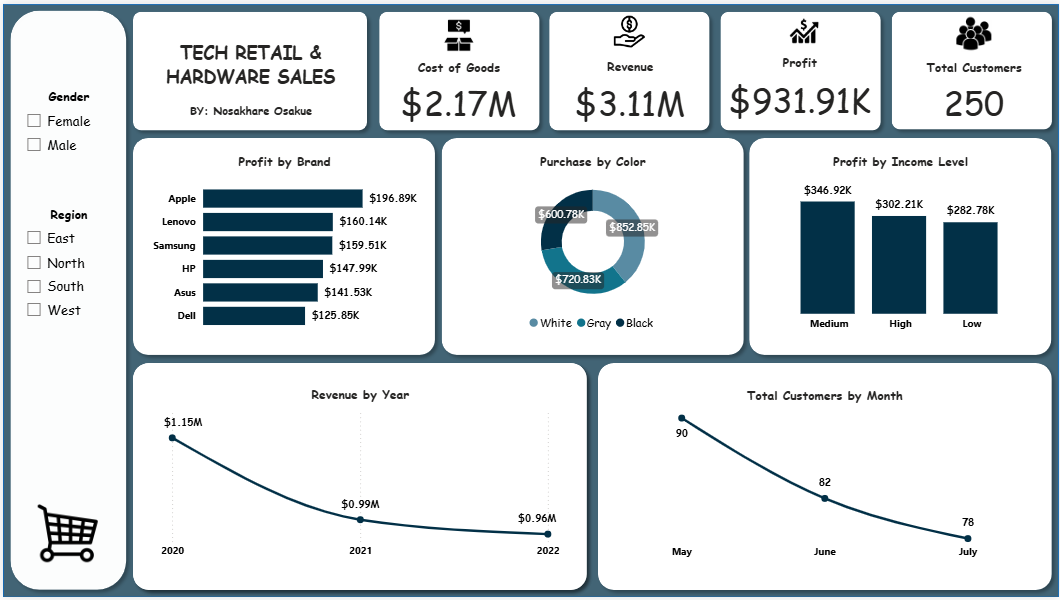

What the dashboard file says about the page in this screenshot:
{"tool":"powerbi","page":{"name":"Page 1","canvas":[1280,720],"ordinal":0},"visuals":[{"type":"shape","title":"Background","box":[0,1.2,1279.8,719],"z":0},{"type":"shape","box":[0,0,158.3,720.2],"z":1000},{"type":"slicer","title":"Region","fields":{"Values":["Table 2 (Customers).Region"]},"box":[17.2,245.4,126.4,162],"z":2000},{"type":"slicer","title":"Gender","fields":{"Values":["Table 2 (Customers).Gender"]},"box":[17.2,103.1,126.4,101.8],"z":3000},{"type":"shape","box":[148.5,1.2,301.8,162],"z":4000},{"type":"shape","box":[446.6,1.2,212.3,162],"z":5000},{"type":"shape","box":[653.7,1.2,212.3,162],"z":6000},{"type":"shape","box":[860.7,1.2,212.3,162],"z":7000},{"type":"shape","box":[1067.7,1.2,212.3,160.7],"z":8000},{"type":"card","title":"Cost of Goods","fields":{"Values":["Sum(Sales.COGS)"]},"box":[463.8,68.7,177.9,85.9],"z":9000},{"type":"card","title":"Revenue","fields":{"Values":["Sum(Sales.Revenue)"]},"box":[688.3,66.3,144.8,89.6],"z":10000},{"type":"card","title":"Profit","fields":{"Values":["Sum(Sales.Profit)"]},"box":[869.9,62.6,192.6,92],"z":11000},{"type":"card","title":"Total Customers","fields":{"Values":["Sales.Total Customers"]},"box":[1111.7,68.7,130.1,87.1],"z":12000},{"type":"shape","box":[148.5,427,568.1,293.3],"z":13000},{"type":"image","box":[1149.7,10,54,52.8],"z":14000},{"type":"shape","box":[148.5,154.6,384.1,281],"z":15000},{"type":"shape","box":[522.7,154.6,384.1,281],"z":16000},{"type":"shape","box":[895.7,154.6,384.1,281],"z":17000},{"type":"shape","box":[148.5,426.7,568.1,293.3],"z":18000},{"type":"shape","box":[711.7,427,568.1,293.3],"z":19000},{"type":"lineChart","title":"Revenue by Year","fields":{"Category":["Table 2 (Customers).SignupDate.Variation.Date Hierarchy.Year"],"Y":["Sum(Sales.Revenue)"]},"box":[186.5,463.8,493.3,218.4],"z":20000},{"type":"clusteredColumnChart","title":"Profit by Income Level","fields":{"Category":["Table 2 (Customers).IncomeLevel"],"Y":["Sum(Sales.Profit)"]},"box":[927.7,181.8,321.7,225.1],"z":21000},{"type":"clusteredBarChart","title":"Profit by Brand","fields":{"Category":["Table 1 (Products).Brand"],"Y":["Sum(Sales.Profit)"]},"box":[175.5,181.6,331.3,225.8],"z":22000},{"type":"lineChart","fields":{"Category":["Table 2 (Customers).SignupDate.Variation.Date Hierarchy.Month"],"Y":["Sales.Total Customers"]},"box":[748.5,465,495.7,218.4],"z":23000},{"type":"textbox","box":[162,39.3,276.1,77.3],"z":24000},{"type":"textbox","box":[196.3,116.6,207.4,30.7],"z":25000},{"type":"donutChart","title":"Purchase by Color","fields":{"Category":["Table 1 (Products).Color"],"Y":["Sum(Sales.COGS)"]},"box":[565.6,181.8,300.1,225.1],"z":26000},{"type":"image","box":[35.6,601.2,87.1,82.2],"z":27000},{"type":"image","box":[526.4,10,54,56.4],"z":28000},{"type":"image","box":[735,10,49.1,47.9],"z":29000},{"type":"image","box":[943.6,10,54,50.3],"z":30000}]}

Visuals, with their boxes in screenshot pixels (x1, y1, x2, y2), scaled from the page's 1280x720 canvas onto the 1060x600 screenshot:
"Background" shape: 0 1 1059 599
shape: 0 0 131 599
"Region" slicer: 14 204 119 340
"Gender" slicer: 14 86 119 171
shape: 123 1 373 136
shape: 370 1 546 136
shape: 541 1 717 136
shape: 713 1 889 136
shape: 884 1 1059 135
"Cost of Goods" card: 384 57 531 129
"Revenue" card: 570 55 690 130
"Profit" card: 720 52 880 129
"Total Customers" card: 921 57 1028 130
shape: 123 356 593 599
image: 952 8 997 52
shape: 123 129 441 363
shape: 433 129 751 363
shape: 742 129 1059 363
shape: 123 356 593 599
shape: 589 356 1059 599
"Revenue by Year" lineChart: 154 386 563 569
"Profit by Income Level" clusteredColumnChart: 768 152 1035 339
"Profit by Brand" clusteredBarChart: 145 151 420 340
lineChart - Table 2 (Customers).SignupDate.Variation.Date Hierarchy.Month x Sales.Total Customers: 620 388 1030 570
textbox: 134 33 363 97
textbox: 163 97 334 123
"Purchase by Color" donutChart: 468 152 717 339
image: 29 501 102 570
image: 436 8 481 55
image: 609 8 649 48
image: 781 8 826 50
